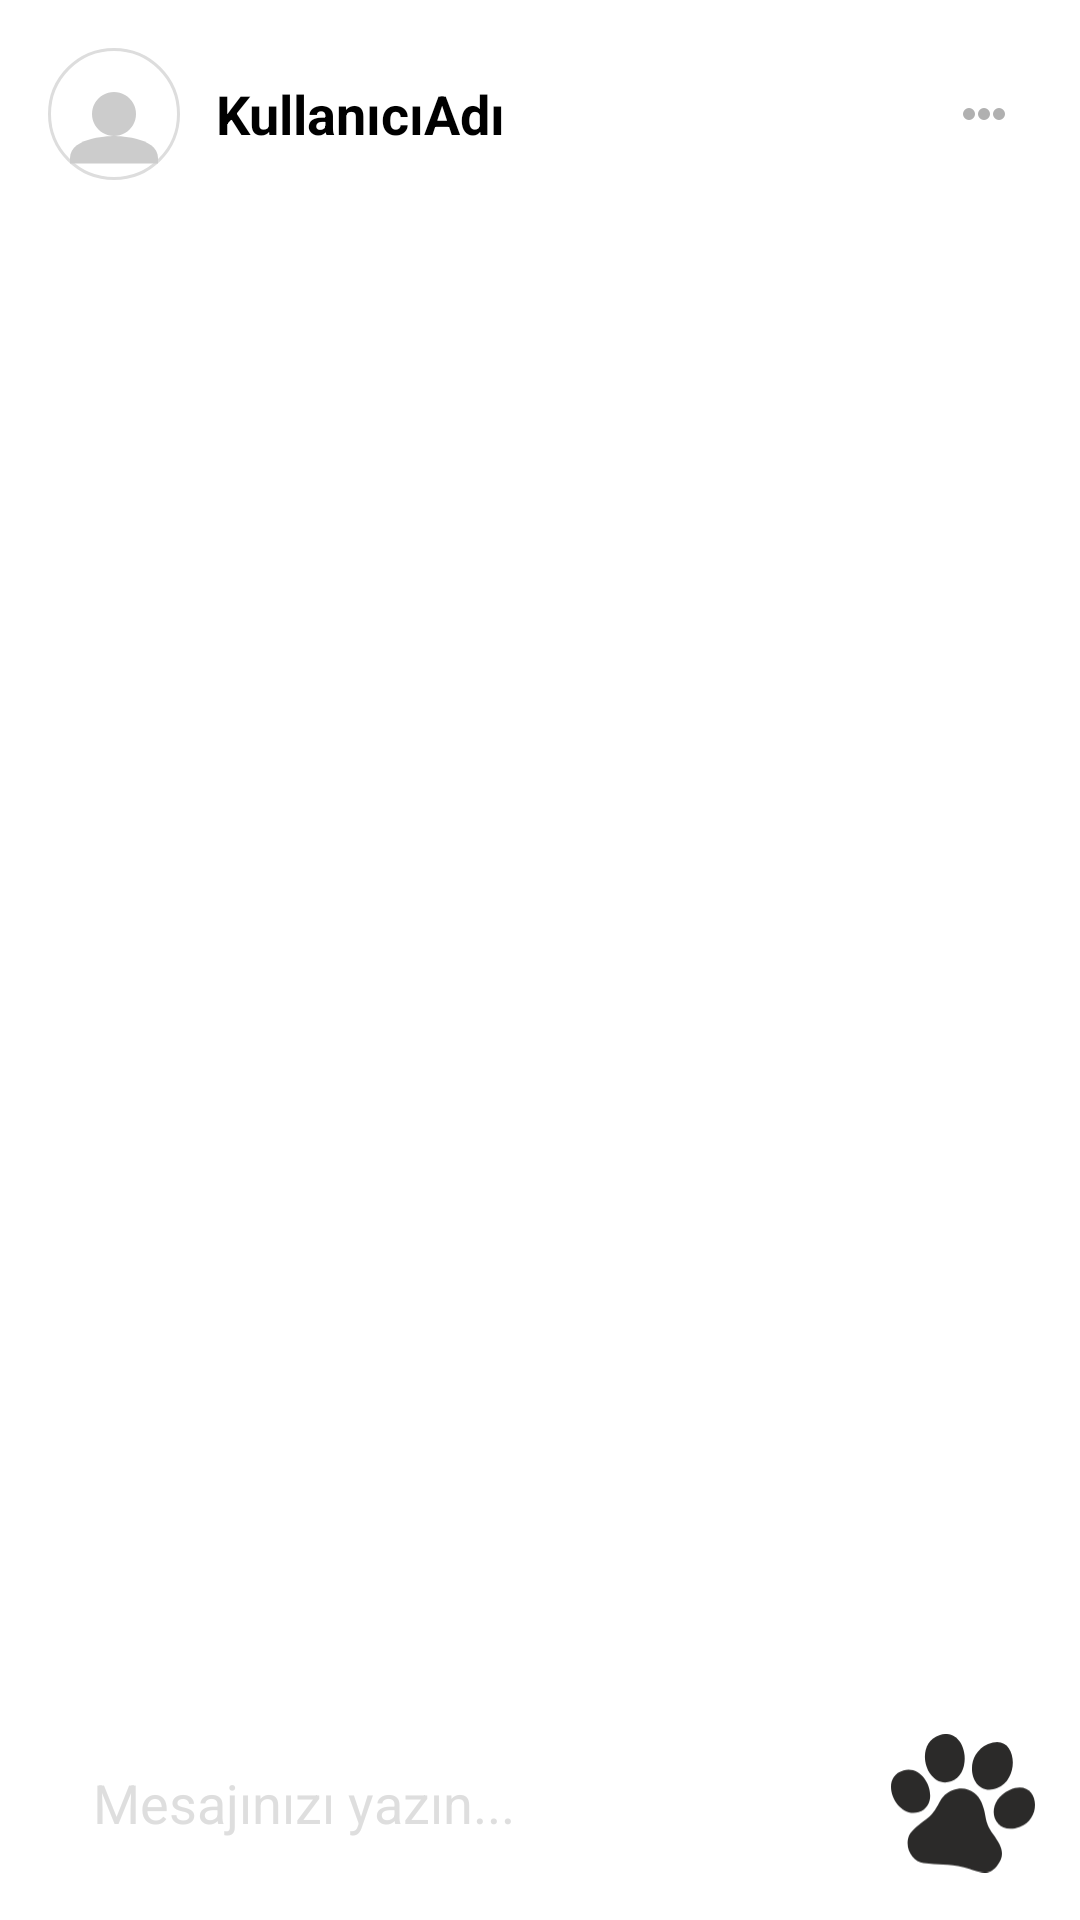

Screen size 1080x1920. Icon name, then its center in pixels as point (x, y):
more horiz: point (984, 114)
pati: point (963, 1803)
